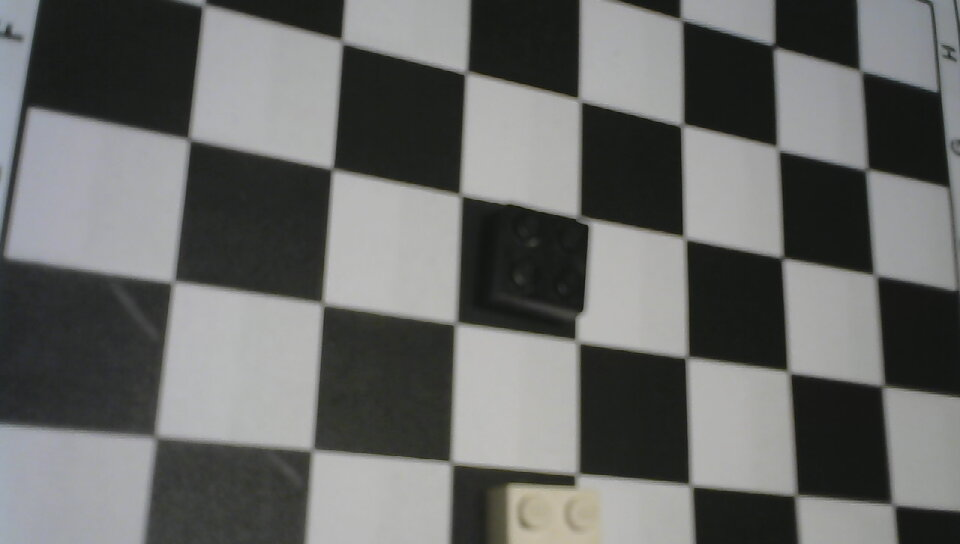bp: (477, 200, 594, 335)
